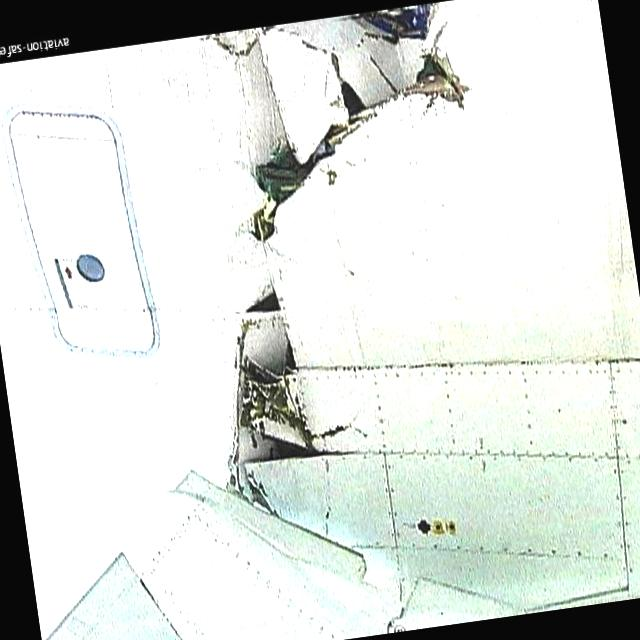crack: (162, 14, 526, 522)
